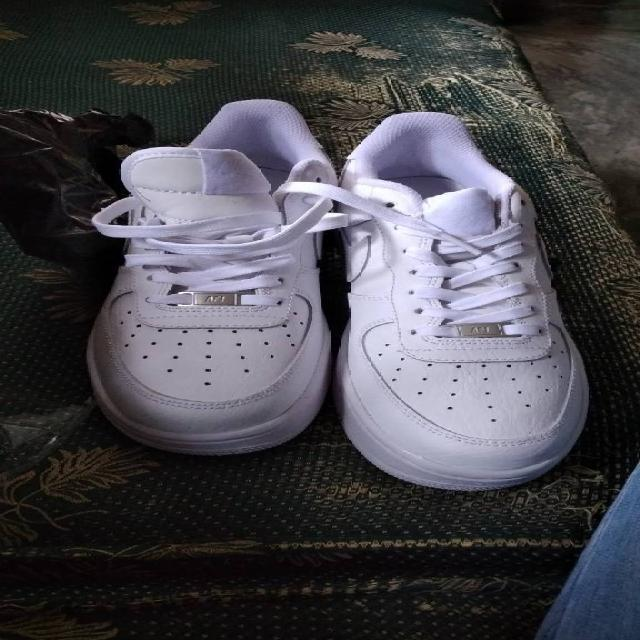nike fake air force: (333, 104, 589, 496), (78, 96, 338, 452), (330, 106, 596, 402)
